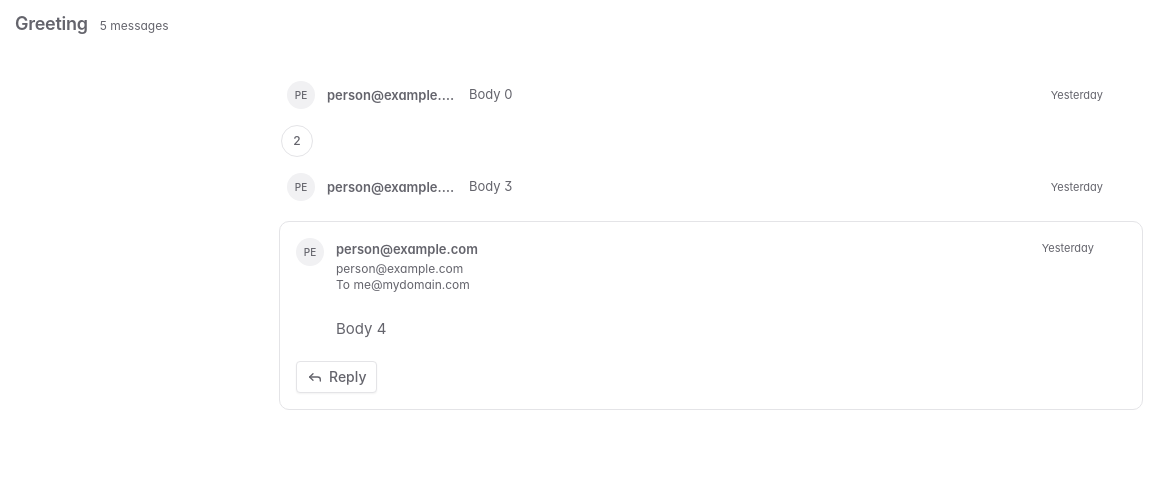
Test: conversation reading and replying › keeps the latest message open and packs middle messages into an expandable count
Expected: the text "Body 4" is shown, [336,319,386,338]
Expected: the text "Body 1" is not shown
Click the button named "Show 2 earlier messages".
click(297, 141)  # box [281,125,313,157]
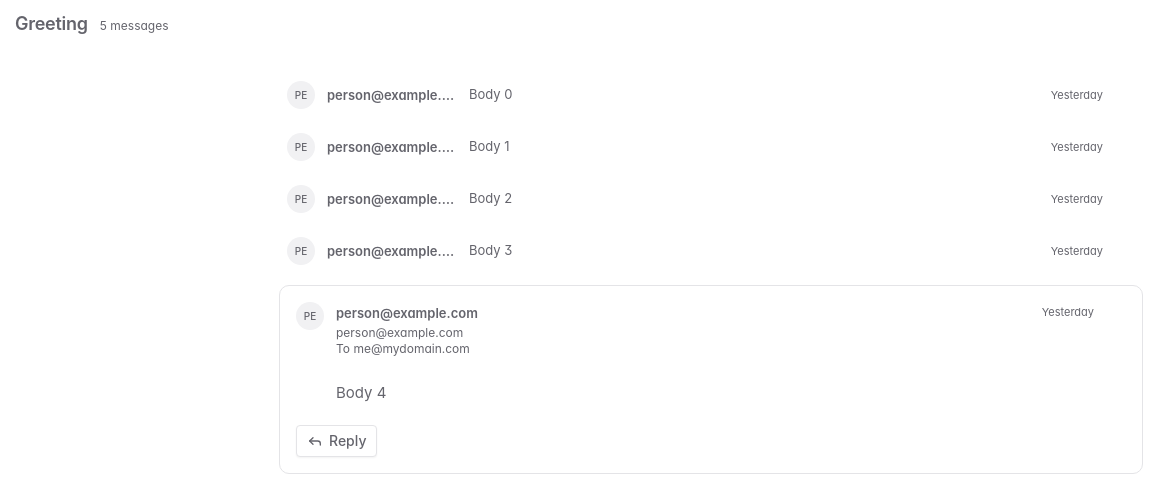
Result: the text "Body 1" is shown at [469,138,510,154]
Result: the text "Body 2" is shown at [469,190,512,206]
Result: the number of buttons named "Expand message from" is 4 at [279,69,1111,121]; [279,121,1111,173]; [279,173,1111,225]; [279,225,1111,277]
